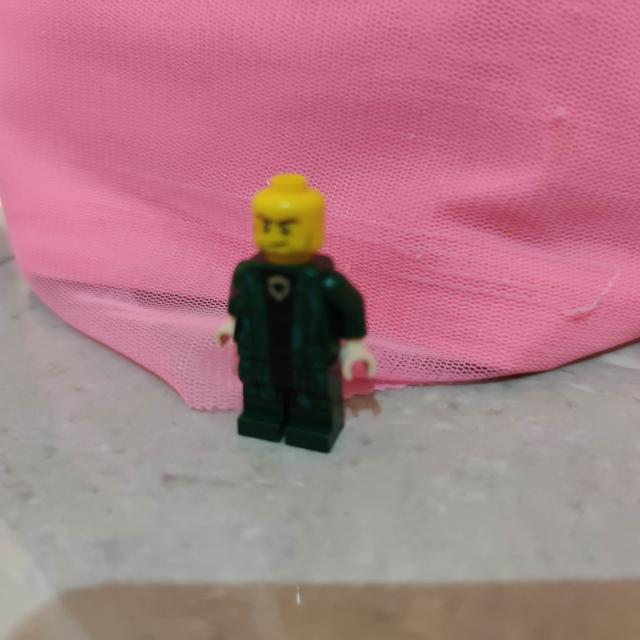lego: (210, 172, 380, 458)
